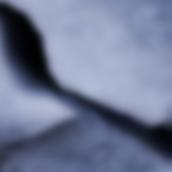broken_brick: (6, 0, 171, 123), (0, 61, 76, 147)
crack: (0, 0, 171, 171)
